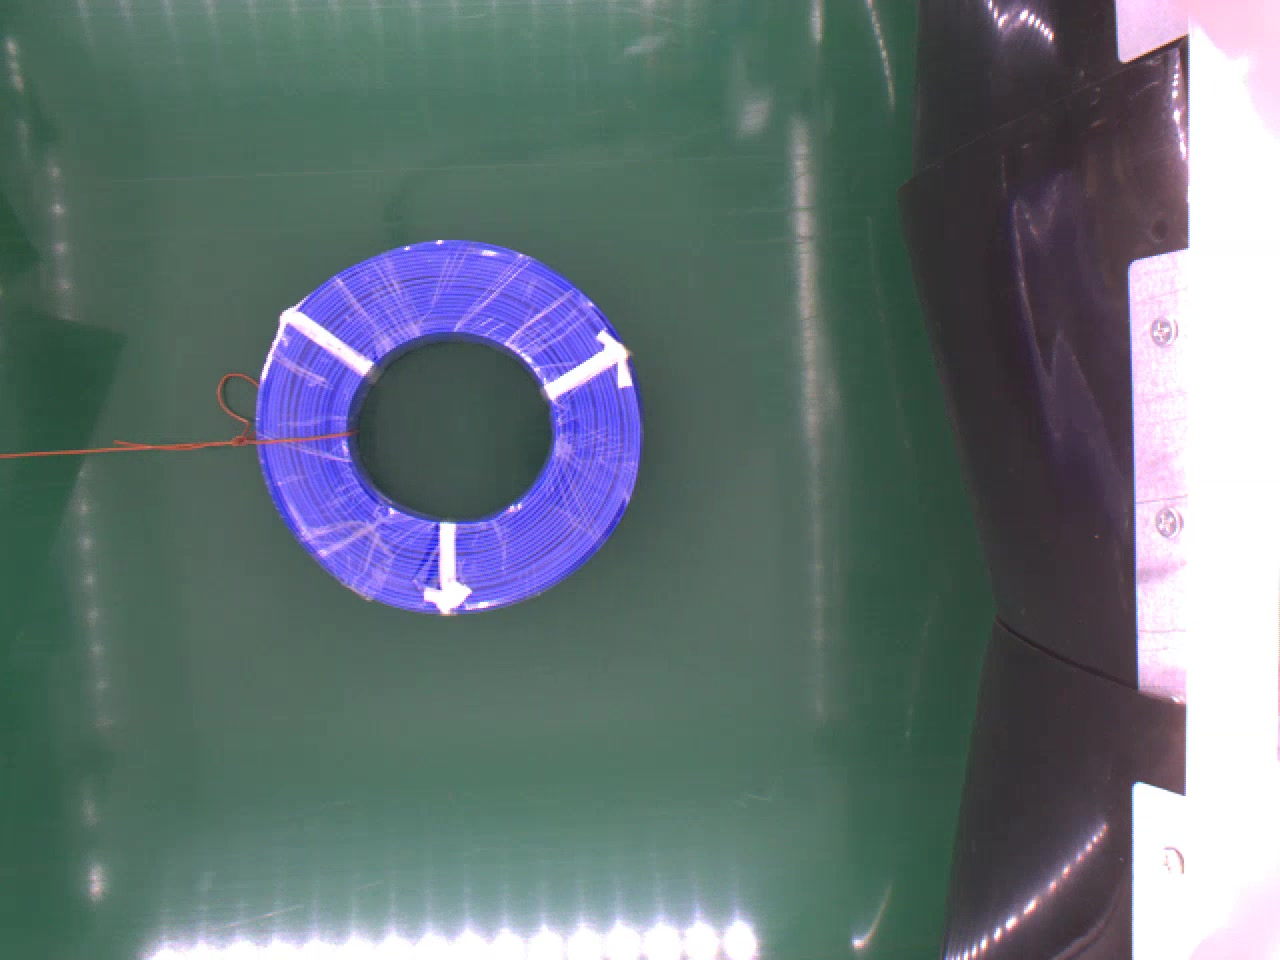blue: (251, 235, 642, 614)
